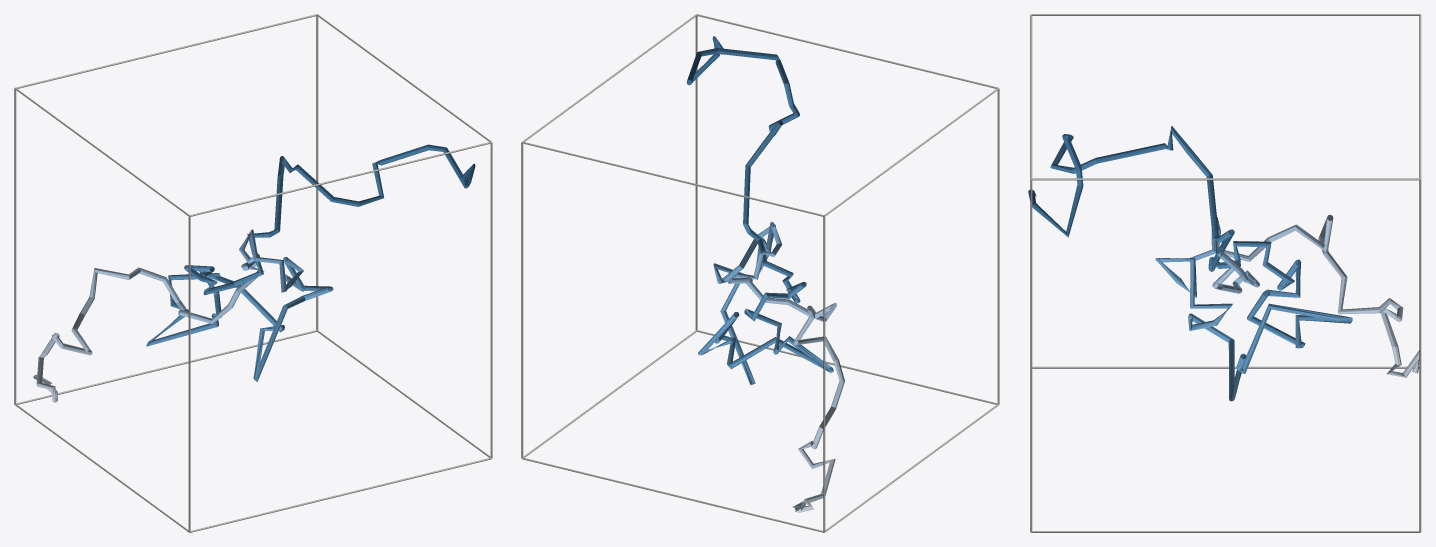
File: BT17_early.glb
3 views of the same model, side by side, from view 1: azimuth 30°, elevation 25°; view 2: azimuth 150°, elevation 25°; view 3: azimuth 270°, elevation 25° (orthographic). The views are drawn at different scales.
Visible parts, largest first — view 1: geometry_0, geometry_1; view 2: geometry_0, geometry_1; view 3: geometry_0, geometry_1.
Boxes of the visible parts, x1,y1,x2,y2 form: geometry_0: [33, 144, 475, 402]; geometry_1: [14, 14, 492, 532]; geometry_0: [686, 36, 844, 512]; geometry_1: [521, 14, 999, 532]; geometry_0: [1028, 126, 1421, 401]; geometry_1: [1030, 14, 1421, 532].
Size of the model in its own units: 0.3016 by 0.3014 by 0.3033.
